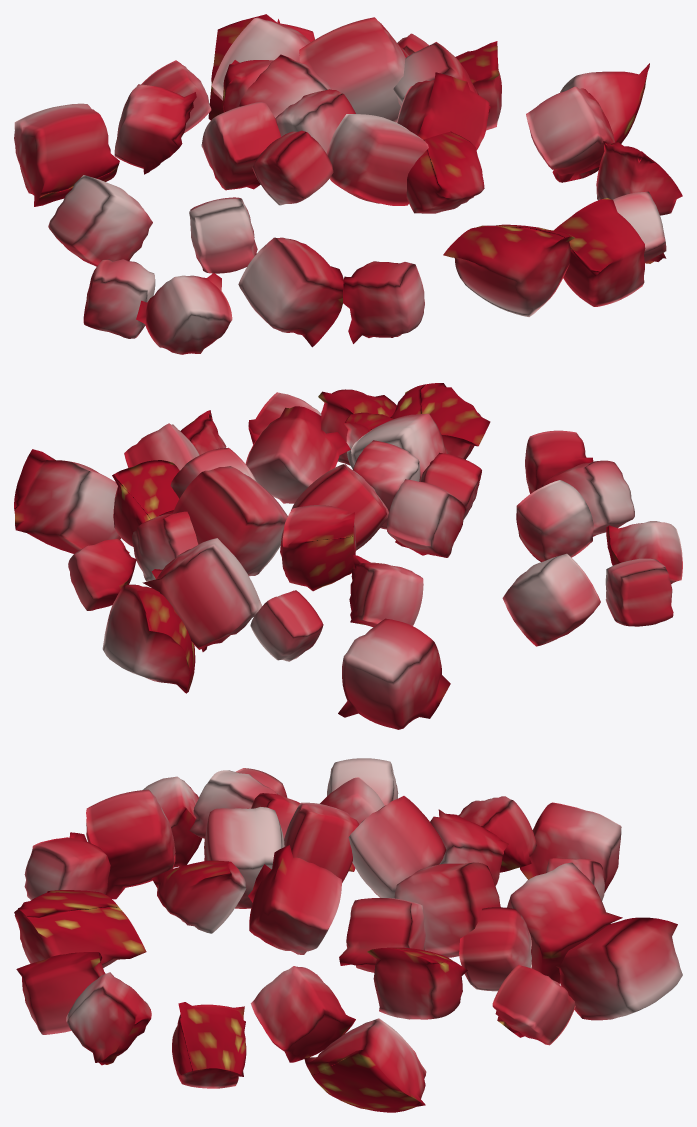
The model's file is morango_picado.glb.
The picture shows the model from 3 angles, top to bottom: view 1: azimuth 30°, elevation 25°; view 2: azimuth 150°, elevation 25°; view 3: azimuth 270°, elevation 25°; orthographic projection. The views are drawn at different scales.
Parts seen in each view (by area): view 1: morango_picado_27, morango_picado_10, morango_picado_7, morango_picado_19, morango_picado_12, morango_picado_1, morango_picado_13, morango_picado_0, morango_picado_17, morango_picado_2, morango_picado_29, morango_picado_25 (+16 smaller); view 2: morango_picado_7, morango_picado_21, morango_picado_3, morango_picado_19, morango_picado_23, morango_picado_8, morango_picado_13, morango_picado_22, morango_picado_6, morango_picado_11, morango_picado_29, morango_picado_9 (+18 smaller); view 3: morango_picado_23, morango_picado_21, morango_picado_27, morango_picado_8, morango_picado_3, morango_picado_10, morango_picado_17, morango_picado_24, morango_picado_19, morango_picado_16, morango_picado_4, morango_picado_15 (+17 smaller).
Boxes of the visible parts, <box> form: morango_picado_27: <box>443,224,574,316</box>; morango_picado_10: <box>238,237,343,347</box>; morango_picado_7: <box>14,103,119,206</box>; morango_picado_19: <box>299,17,405,122</box>; morango_picado_12: <box>554,198,645,306</box>; morango_picado_1: <box>326,114,428,205</box>; morango_picado_13: <box>48,175,152,266</box>; morango_picado_0: <box>136,273,232,354</box>; morango_picado_17: <box>526,86,614,182</box>; morango_picado_2: <box>343,261,424,343</box>; morango_picado_29: <box>114,84,196,174</box>; morango_picado_25: <box>406,131,484,213</box>; morango_picado_7: <box>338,618,450,729</box>; morango_picado_21: <box>14,449,129,553</box>; morango_picado_3: <box>142,538,261,651</box>; morango_picado_19: <box>173,466,287,576</box>; morango_picado_23: <box>102,584,195,693</box>; morango_picado_8: <box>245,406,350,503</box>; morango_picado_13: <box>502,553,600,646</box>; morango_picado_22: <box>280,505,356,591</box>; morango_picado_6: <box>516,480,593,561</box>; morango_picado_11: <box>387,479,466,557</box>; morango_picado_29: <box>349,555,423,627</box>; morango_picado_9: <box>605,558,673,626</box>; morango_picado_23: <box>556,917,682,1020</box>; morango_picado_21: <box>304,1018,426,1112</box>; morango_picado_27: <box>14,890,146,967</box>; morango_picado_8: <box>248,845,341,954</box>; morango_picado_3: <box>507,862,622,983</box>; morango_picado_10: <box>86,789,175,899</box>; morango_picado_17: <box>250,966,355,1062</box>; morango_picado_24: <box>348,796,446,898</box>; morango_picado_19: <box>394,862,500,957</box>; morango_picado_16: <box>172,1002,246,1088</box>; morango_picado_4: <box>367,947,467,1019</box>; morango_picado_15: <box>66,972,151,1065</box>.
Size of the model in its own units: 0.9894 by 0.263 by 0.9016.
